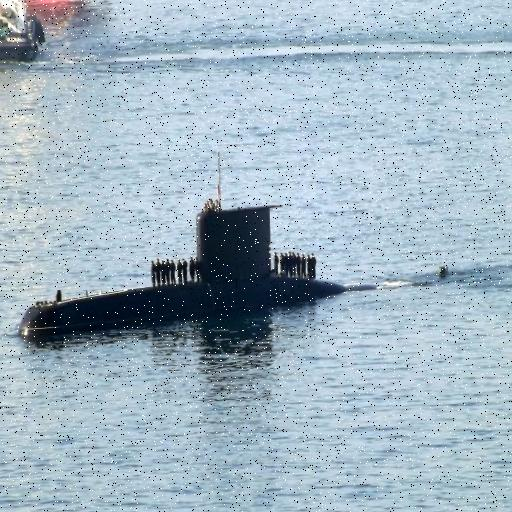submarine: (21, 205, 384, 343)
